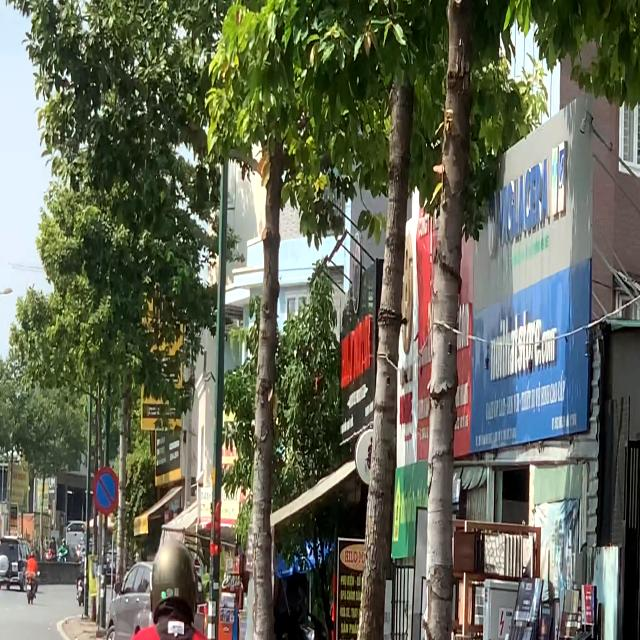P.131a: (91, 466, 119, 514)
